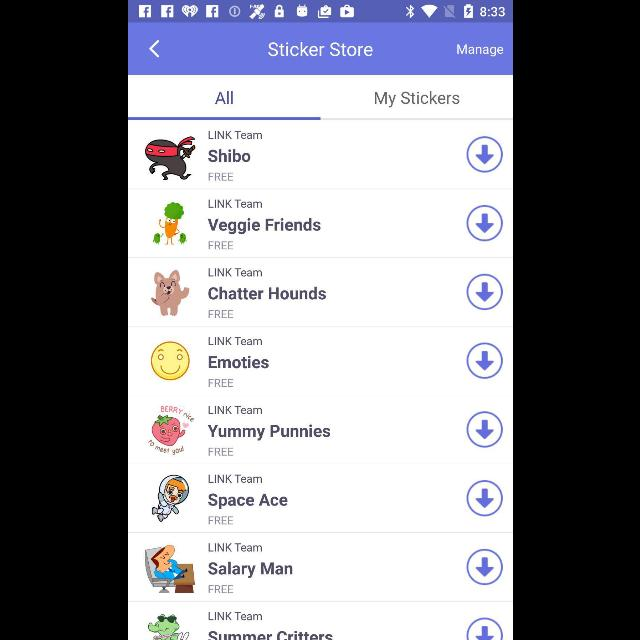icon: (466, 548, 502, 586), (466, 342, 502, 380), (466, 136, 502, 174), (466, 479, 502, 516), (466, 205, 502, 242), (466, 412, 502, 448), (466, 274, 502, 310), (466, 618, 502, 640), (148, 40, 160, 58)
image: (143, 544, 194, 594), (146, 404, 194, 456), (144, 136, 196, 182), (149, 270, 189, 316), (152, 474, 188, 522), (150, 342, 190, 381), (152, 202, 186, 246), (148, 614, 188, 640)
multitab: (128, 76, 512, 120)
text: (206, 424, 330, 442), (206, 218, 320, 235), (268, 41, 372, 57), (207, 286, 325, 300), (374, 90, 458, 108), (208, 562, 292, 578), (207, 493, 287, 509), (208, 630, 332, 640), (208, 356, 268, 368), (456, 44, 504, 58), (208, 149, 250, 163), (207, 474, 261, 484), (207, 336, 261, 346), (207, 268, 261, 278), (208, 612, 262, 620), (208, 544, 262, 552), (207, 406, 261, 414), (207, 200, 261, 208), (207, 131, 261, 139), (207, 378, 233, 388), (208, 584, 232, 594), (208, 240, 232, 250), (214, 92, 232, 105), (208, 173, 234, 181), (208, 516, 232, 524), (208, 448, 232, 456), (208, 310, 232, 318)
toolbar: (128, 24, 512, 74)
uppertaskbar: (128, 1, 512, 23)
